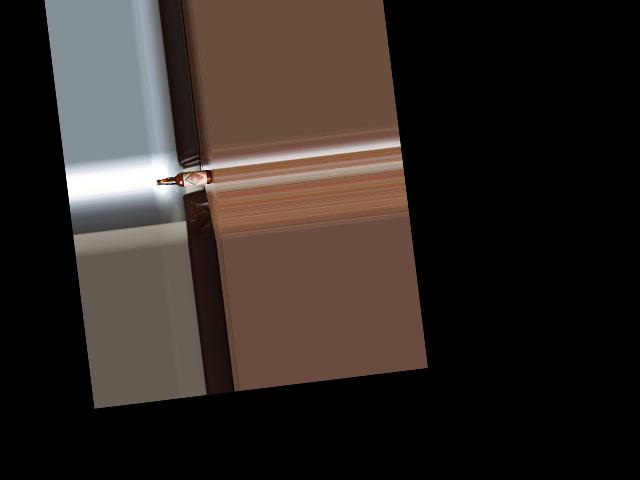beer: (156, 169, 212, 189)
